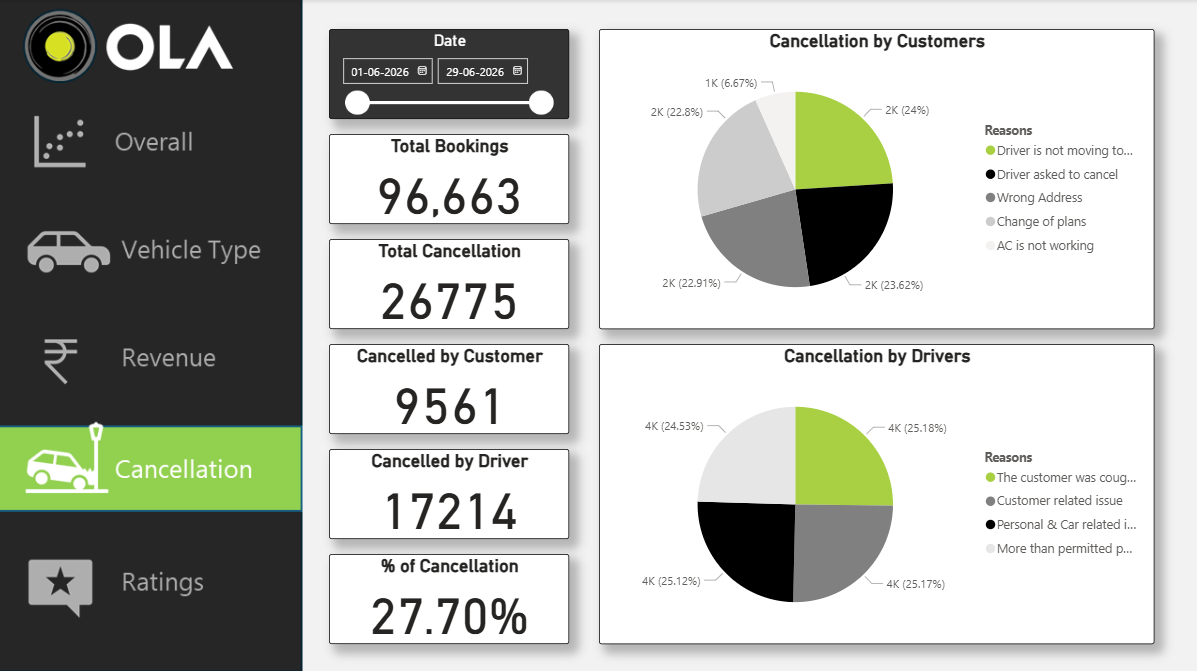

The dashboard page shown, as its layout file describes it:
{"tool":"powerbi","page":{"name":"Cancellation","canvas":[1280,720],"ordinal":3},"visuals":[{"type":"actionButton","box":[0,208,320,96],"z":0},{"type":"actionButton","box":[0,336,320,96],"z":1000},{"type":"actionButton","box":[0,96,320,96],"z":2000},{"type":"actionButton","box":[0,336,320,96],"z":3000},{"type":"actionButton","box":[0,576,320,96],"z":4000},{"type":"pieChart","title":"Cancellation by Customers","fields":{"Category":["bengaluru_ride_bookings.reason_for_cancelling_by_customer"],"Y":["Sum(bengaluru_ride_bookings.cancelled_rides_by_customer)"]},"box":[640,32,592,320],"z":5000},{"type":"pieChart","title":"Cancellation by Drivers","fields":{"Category":["bengaluru_ride_bookings.reason_for_cancelling_by_driver"],"Y":["Sum(bengaluru_ride_bookings.cancelled_rides_by_driver)"]},"box":[640,368,592,320],"z":6000},{"type":"slicer","title":"Date","fields":{"Values":["bengaluru_ride_bookings.date"]},"box":[352,32,256,96],"z":6001},{"type":"card","title":"Total Bookings","fields":{"Values":["CountNonNull(bengaluru_ride_bookings.booking_id)"]},"box":[352,144,256,96],"z":6002},{"type":"card","title":"Total Cancellation","fields":{"Values":["bengaluru_ride_bookings.Total Cancellations"]},"box":[352,256,256,96],"z":6003},{"type":"card","title":"Cancelled by Customer","fields":{"Values":["Sum(bengaluru_ride_bookings.cancelled_rides_by_customer)"]},"box":[352,368,256,96],"z":6004},{"type":"card","title":"Cancelled by Driver","fields":{"Values":["Sum(bengaluru_ride_bookings.cancelled_rides_by_driver)"]},"box":[352,480,256,96],"z":6005},{"type":"card","title":"% of Cancellation","fields":{"Values":["bengaluru_ride_bookings.% of Cancellation"]},"box":[352,592,256,96],"z":6006}]}

Visuals, with their boxes on the page's 1280x720 design canvas (x1, y1, x2, y2). These are canvas units, not pixel positions in the 1197x671 screenshot, which may show the page scaled, cropped or inside an application window:
actionButton: {"x1": 0, "y1": 208, "x2": 320, "y2": 304}
actionButton: {"x1": 0, "y1": 336, "x2": 320, "y2": 432}
actionButton: {"x1": 0, "y1": 96, "x2": 320, "y2": 192}
actionButton: {"x1": 0, "y1": 336, "x2": 320, "y2": 432}
actionButton: {"x1": 0, "y1": 576, "x2": 320, "y2": 672}
"Cancellation by Customers" pieChart: {"x1": 640, "y1": 32, "x2": 1232, "y2": 352}
"Cancellation by Drivers" pieChart: {"x1": 640, "y1": 368, "x2": 1232, "y2": 688}
"Date" slicer: {"x1": 352, "y1": 32, "x2": 608, "y2": 128}
"Total Bookings" card: {"x1": 352, "y1": 144, "x2": 608, "y2": 240}
"Total Cancellation" card: {"x1": 352, "y1": 256, "x2": 608, "y2": 352}
"Cancelled by Customer" card: {"x1": 352, "y1": 368, "x2": 608, "y2": 464}
"Cancelled by Driver" card: {"x1": 352, "y1": 480, "x2": 608, "y2": 576}
"% of Cancellation" card: {"x1": 352, "y1": 592, "x2": 608, "y2": 688}
